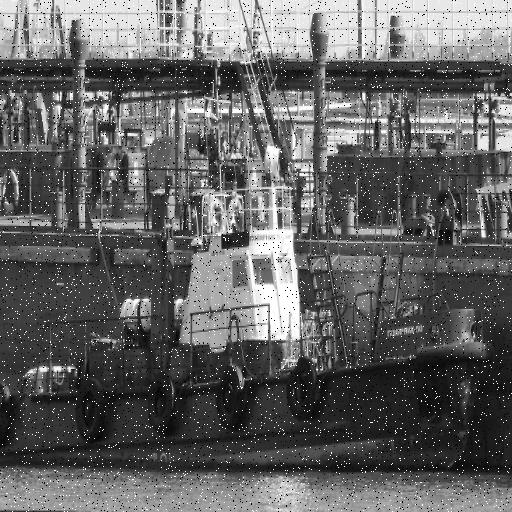tugboat: (1, 140, 502, 496)
